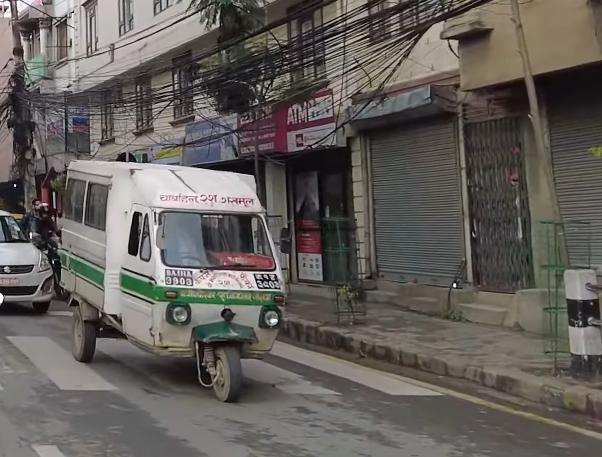tempo: (61, 150, 289, 415)
